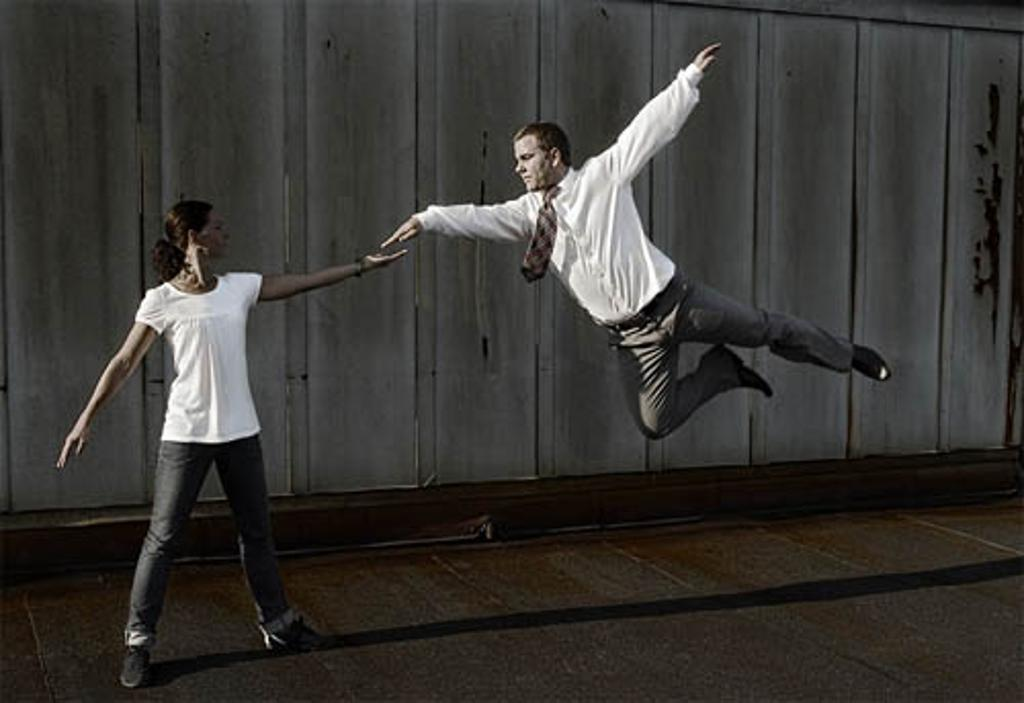face: (515, 138, 552, 189), (192, 210, 229, 256)
